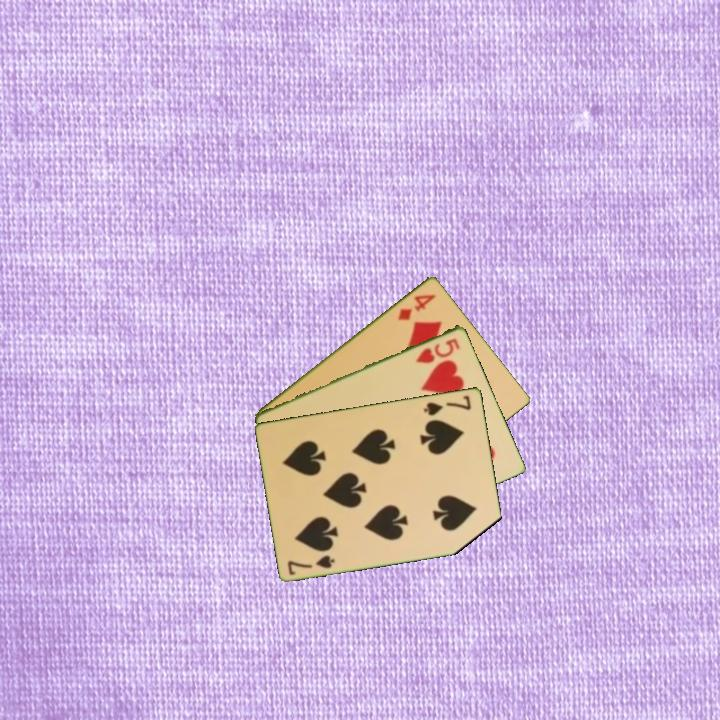4d: (394, 290, 439, 323)
5h: (412, 334, 463, 366)
7s: (420, 391, 474, 418), (284, 551, 338, 578)
